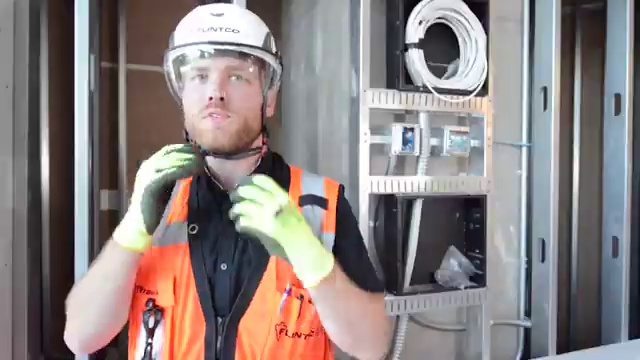helmet: (154, 1, 285, 114)
jacket: (108, 161, 364, 360)
